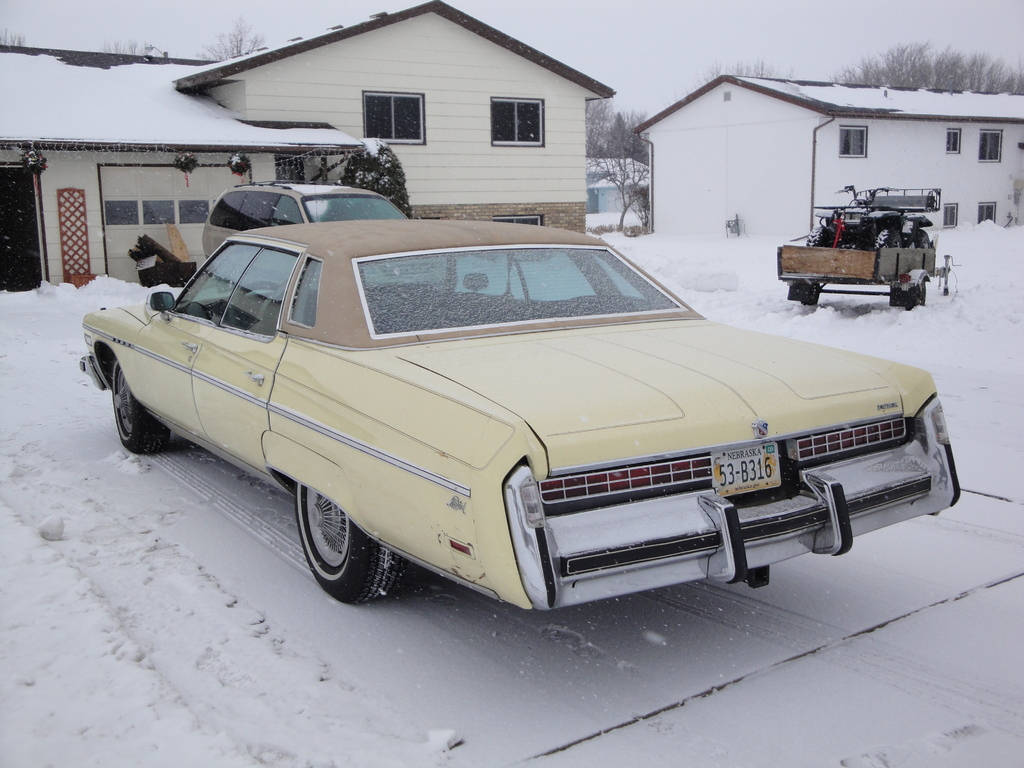Car: (79, 216, 956, 611), (202, 174, 407, 258)
